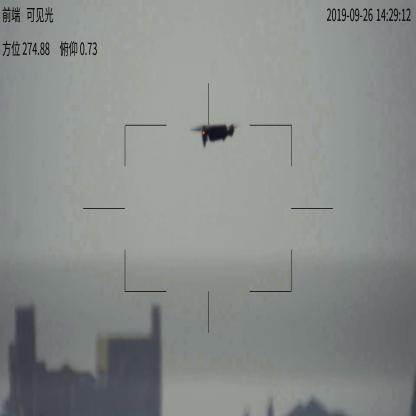uav: (196, 120, 246, 144)
